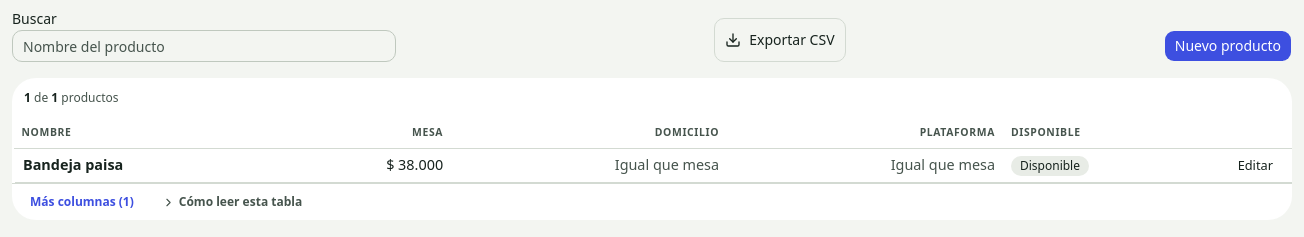
ProductsTab › muestra los precios formateados y dice 'Igual que mesa' cuando falta el opcional
Expected: the text "Bandeja paisa" is shown, [14,148,284,182]
Expected: the number of cells is 6, [14,148,284,182]; [284,148,451,182]; [451,148,727,182]; [727,148,1003,182]; [1003,148,1219,182]; [1219,148,1292,182]
// Para llevar vive detrás de «Más columnas», con su precio tal cual.
Step 1. Click the button "Más columnas (1)" → x=82, y=202, box [24,190,140,214]
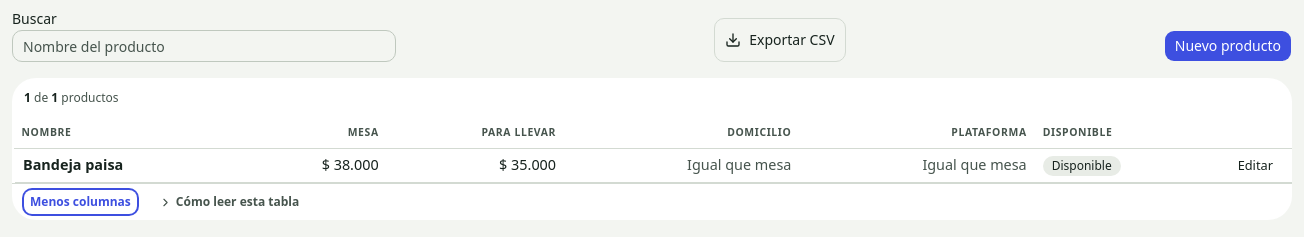
Expected: the 1st cell "Igual que mesa" is shown, [564,148,799,182]
Now the cell "$ 35.000" is shown, box [387,148,564,182]
